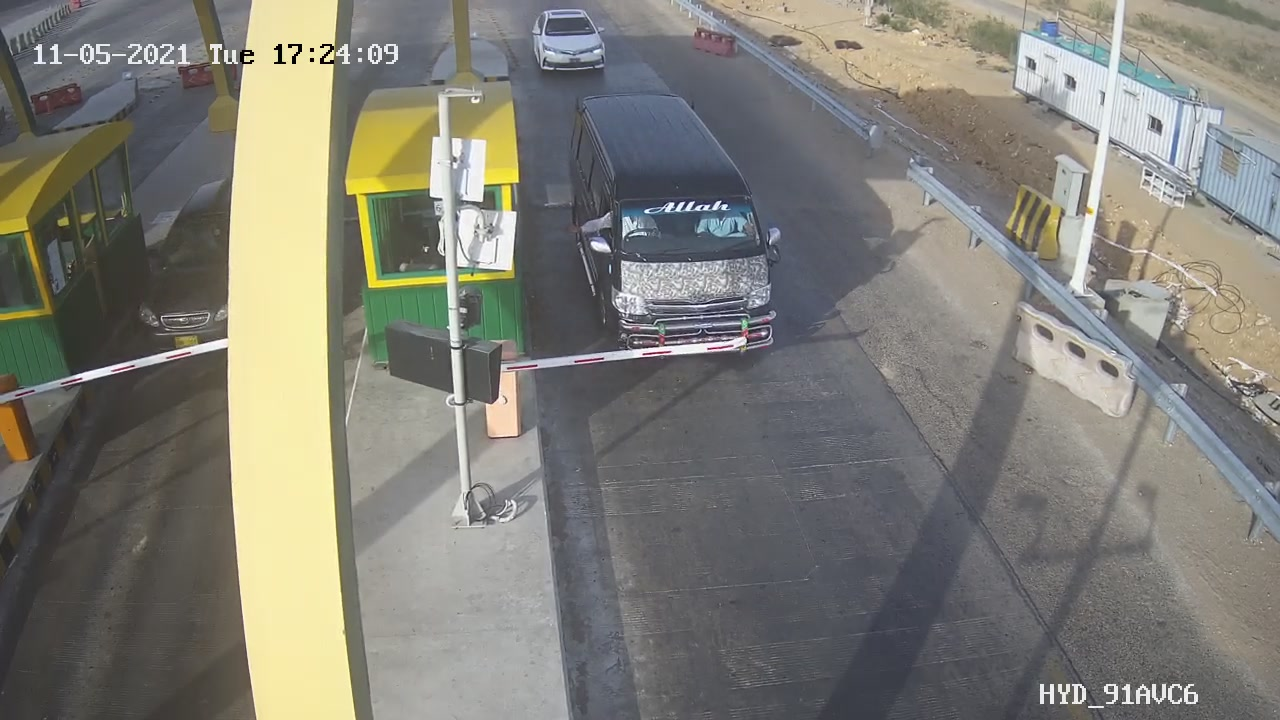F2: (546, 75, 798, 379)
